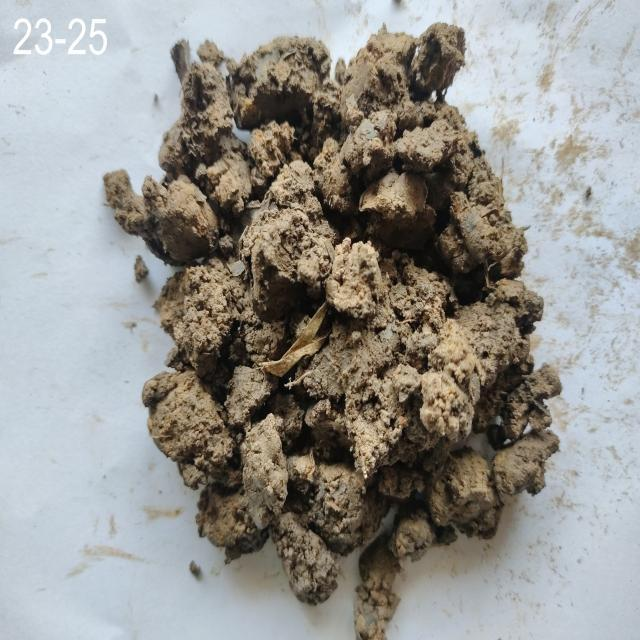soil: (204, 106, 461, 514)
